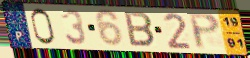0: (29, 7, 57, 46)
2: (161, 11, 194, 50)
3: (59, 8, 87, 47)
6: (94, 8, 127, 50)
B: (123, 11, 158, 49)
P: (187, 13, 222, 51)
